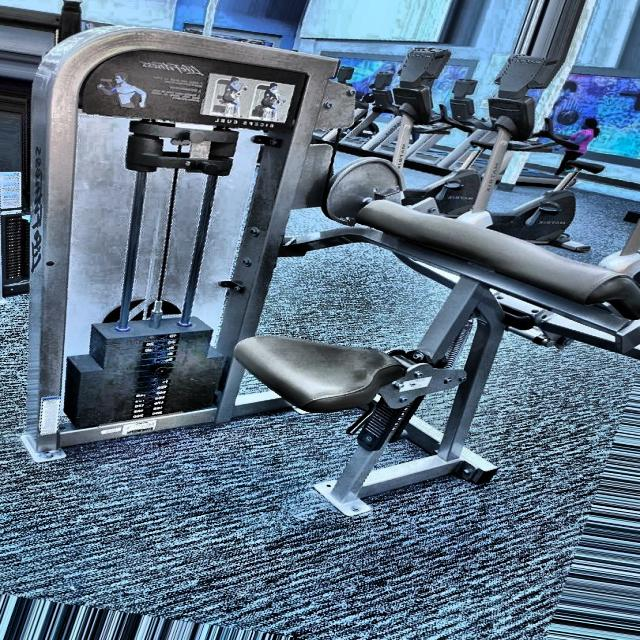bicep_curl_machine: (254, 116, 639, 541), (85, 45, 300, 145)
